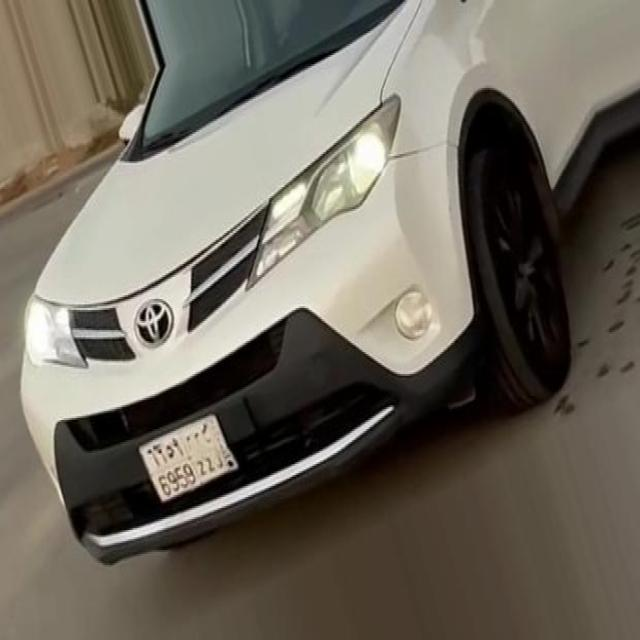Car-plate: (130, 390, 254, 523)
